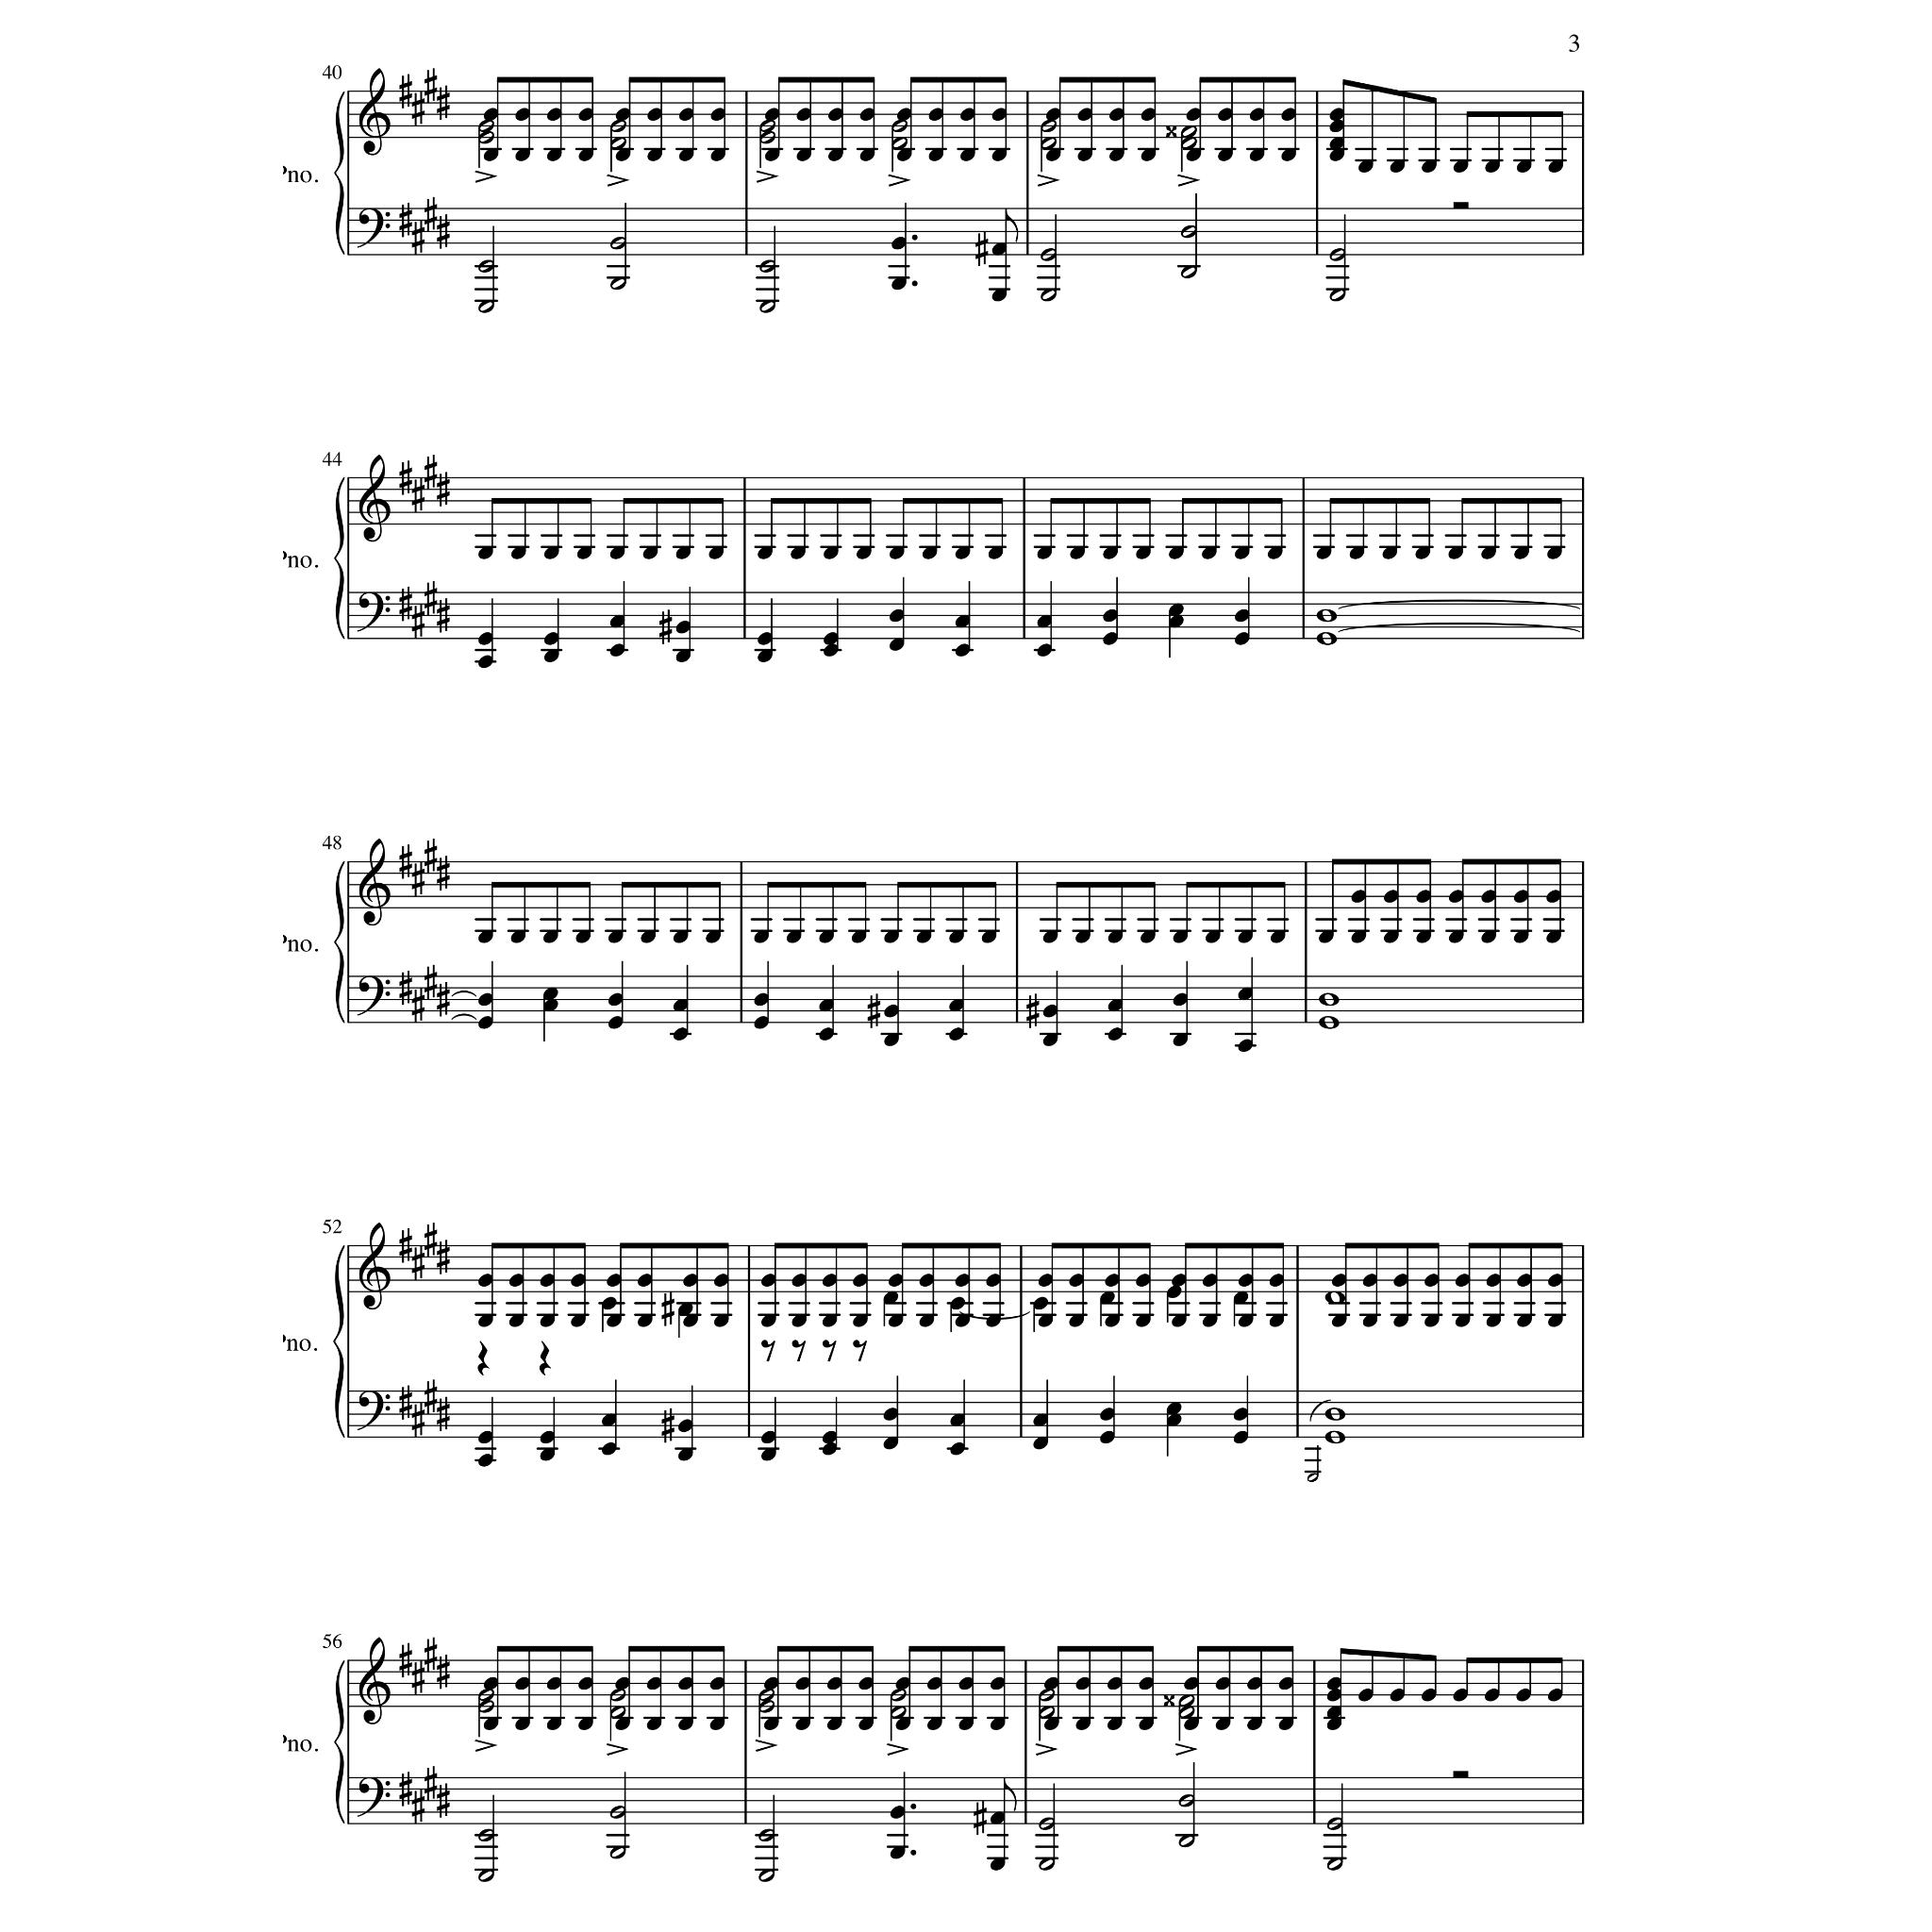brace: (333, 1246, 345, 1438), (333, 1660, 345, 1824), (333, 92, 345, 255), (333, 478, 345, 640), (333, 862, 345, 1024)
fClef: (357, 593, 391, 633), (357, 977, 391, 1017), (357, 1391, 391, 1431), (357, 1776, 391, 1817), (357, 209, 391, 248)
flag8thUp: (1003, 1778, 1017, 1812), (1005, 209, 1017, 242)
gClef: (359, 67, 391, 157), (359, 837, 391, 927), (359, 1221, 391, 1311), (359, 455, 391, 543), (359, 1637, 391, 1725)
noteheadBlack: (545, 108, 563, 122), (545, 149, 563, 163), (858, 149, 876, 163), (858, 108, 876, 122), (759, 1447, 777, 1461), (1214, 1677, 1231, 1691), (1214, 1716, 1231, 1730), (1042, 1677, 1060, 1691), (1042, 1716, 1060, 1730), (1483, 1688, 1500, 1702), (545, 1677, 563, 1691), (545, 1716, 563, 1730), (957, 1677, 975, 1691), (957, 1716, 975, 1730), (1108, 149, 1123, 163), (1249, 149, 1265, 163), (1185, 108, 1201, 122), (1185, 149, 1201, 163), (1108, 108, 1123, 122), (1139, 108, 1155, 122), (1139, 149, 1155, 163), (991, 108, 1007, 122), (1217, 108, 1233, 122), (1217, 149, 1233, 163), (1046, 108, 1062, 122), (1046, 149, 1062, 163), (991, 288, 1007, 303), (1077, 108, 1093, 122), (1077, 149, 1093, 163), (1329, 149, 1345, 163), (1329, 108, 1345, 122), (1329, 136, 1345, 150), (1281, 108, 1297, 122), (1281, 149, 1297, 163), (1249, 108, 1265, 122), (648, 108, 663, 122), (648, 149, 663, 163), (709, 108, 725, 122), (764, 108, 780, 122), (764, 149, 780, 163), (709, 149, 725, 163), (991, 149, 1007, 163), (678, 108, 694, 122), (678, 149, 694, 163), (483, 149, 499, 163), (515, 108, 531, 122), (515, 149, 531, 163), (483, 108, 499, 122), (579, 149, 594, 163), (614, 108, 630, 122), (614, 149, 630, 163), (579, 108, 594, 122), (892, 237, 908, 251), (892, 276, 908, 290), (895, 108, 911, 122), (895, 149, 911, 163), (961, 108, 977, 122), (961, 149, 977, 163), (927, 108, 943, 122), (927, 149, 943, 163), (826, 108, 842, 122), (826, 149, 842, 163), (796, 108, 812, 122), (796, 149, 812, 163), (1168, 603, 1184, 617), (1235, 609, 1251, 623), (1235, 632, 1251, 646), (1037, 644, 1053, 658), (1102, 609, 1118, 623), (1102, 632, 1118, 646), (609, 644, 625, 658), (543, 632, 559, 646), (543, 649, 559, 663), (676, 649, 692, 663), (478, 632, 494, 646), (478, 655, 494, 669), (823, 632, 839, 646), (823, 644, 839, 658), (954, 644, 970, 658), (888, 609, 904, 623), (888, 637, 904, 651), (757, 649, 773, 663), (757, 632, 773, 646), (1173, 993, 1189, 1007), (1173, 1033, 1189, 1047), (1042, 1005, 1058, 1019), (1042, 1033, 1058, 1047), (1546, 890, 1562, 904), (1513, 890, 1529, 904), (1481, 890, 1497, 904), (1447, 890, 1463, 904), (1382, 890, 1398, 904), (1415, 890, 1431, 904), (1350, 890, 1366, 904), (607, 993, 623, 1007), (607, 1016, 623, 1030), (478, 993, 494, 1007), (478, 1016, 494, 1030), (883, 1005, 899, 1019), (883, 1033, 899, 1047), (754, 993, 770, 1007), (754, 1016, 770, 1030), (1166, 1414, 1182, 1428), (1166, 1401, 1182, 1415), (1033, 1414, 1049, 1428), (1033, 1437, 1049, 1451), (1033, 1297, 1049, 1311), (600, 1442, 616, 1456), (600, 1414, 616, 1428), (600, 1297, 616, 1311), (950, 1414, 966, 1428), (678, 1447, 694, 1461), (678, 1302, 694, 1316), (478, 1453, 494, 1467), (540, 1447, 556, 1461), (821, 1442, 837, 1456), (950, 1442, 966, 1456), (950, 1297, 966, 1311), (883, 1437, 899, 1451), (1106, 1716, 1122, 1730), (1246, 1716, 1261, 1730), (1184, 1677, 1200, 1691), (1184, 1716, 1200, 1730), (1106, 1677, 1122, 1691), (1138, 1677, 1154, 1691), (1138, 1716, 1154, 1730), (989, 1677, 1005, 1691), (989, 1858, 1005, 1872), (1076, 1677, 1092, 1691), (1076, 1716, 1092, 1730), (1516, 1688, 1532, 1702), (1453, 1688, 1468, 1702), (1546, 1688, 1562, 1702), (1325, 1716, 1341, 1730), (1325, 1677, 1341, 1691), (1325, 1688, 1341, 1702), (1277, 1677, 1293, 1691), (1277, 1716, 1293, 1730), (1421, 1688, 1437, 1702), (1389, 1688, 1405, 1702), (1359, 1688, 1375, 1702), (1246, 1677, 1261, 1691), (646, 1677, 662, 1691), (646, 1716, 662, 1730), (709, 1677, 725, 1691), (763, 1677, 778, 1691), (763, 1716, 778, 1730), (709, 1716, 725, 1730), (989, 1716, 1005, 1730), (678, 1677, 694, 1691), (678, 1716, 694, 1730), (483, 1716, 499, 1730), (515, 1677, 531, 1691), (515, 1716, 531, 1730), (483, 1677, 499, 1691), (579, 1716, 594, 1730), (614, 1677, 630, 1691), (614, 1716, 630, 1730), (579, 1677, 594, 1691), (890, 1845, 906, 1859), (895, 1677, 911, 1691), (895, 1716, 911, 1730), (858, 1716, 874, 1730), (858, 1677, 874, 1691), (925, 1677, 941, 1691), (925, 1716, 941, 1730), (826, 1677, 842, 1691), (826, 1716, 842, 1730), (794, 1677, 810, 1691), (794, 1716, 810, 1730), (915, 931, 932, 943), (1099, 1408, 1116, 1421), (1099, 1292, 1116, 1304), (1099, 1431, 1116, 1444), (886, 1274, 904, 1286), (886, 1315, 904, 1327), (759, 1431, 777, 1444), (759, 1274, 777, 1286), (759, 1315, 777, 1327), (991, 242, 1007, 255), (1516, 161, 1532, 173), (1484, 161, 1500, 173), (1453, 161, 1468, 173), (1548, 161, 1564, 173), (1329, 120, 1345, 133), (1421, 161, 1437, 173), (1389, 161, 1405, 173), (1359, 161, 1375, 173), (1168, 616, 1184, 628), (1168, 547, 1184, 559), (1136, 547, 1152, 559), (1235, 547, 1251, 559), (1201, 547, 1217, 559), (1037, 547, 1053, 559), (1037, 616, 1053, 628), (987, 547, 1003, 559), (1102, 547, 1118, 559), (1069, 547, 1085, 559), (1546, 547, 1562, 559), (1513, 547, 1529, 559), (1481, 547, 1497, 559), (1447, 547, 1463, 559), (1316, 547, 1332, 559), (1267, 547, 1283, 559), (1415, 547, 1431, 559), (1382, 547, 1398, 559), (1348, 547, 1364, 559), (609, 616, 625, 628), (609, 547, 625, 559), (577, 547, 593, 559), (676, 621, 692, 633), (676, 547, 692, 559), (642, 547, 658, 559), (543, 547, 559, 559), (510, 547, 525, 559), (478, 547, 494, 559), (855, 547, 870, 559), (888, 547, 904, 559), (823, 547, 839, 559), (922, 547, 938, 559), (954, 616, 970, 628), (954, 547, 970, 559), (708, 547, 724, 559), (791, 547, 807, 559), (757, 547, 773, 559), (1139, 931, 1155, 943), (1173, 931, 1189, 943), (980, 931, 996, 943), (1270, 931, 1286, 943), (1237, 987, 1253, 1000), (1237, 1040, 1253, 1053), (1237, 931, 1253, 943), (1205, 931, 1221, 943), (1042, 931, 1058, 943), (1108, 1000, 1123, 1012), (1108, 1028, 1123, 1040), (1108, 931, 1123, 943), (1076, 931, 1092, 943), (1546, 931, 1562, 943), (1513, 931, 1529, 943), (1481, 931, 1497, 943), (1447, 931, 1463, 943), (1318, 931, 1334, 943), (1415, 931, 1431, 943), (1382, 931, 1398, 943), (1350, 931, 1366, 943), (607, 931, 623, 943), (575, 931, 591, 943), (706, 931, 722, 943), (672, 1000, 688, 1012), (672, 1028, 688, 1040), (672, 931, 688, 943), (640, 931, 656, 943), (510, 931, 525, 943), (478, 931, 494, 943), (819, 1000, 835, 1012), (819, 1028, 835, 1040), (819, 931, 835, 943), (948, 931, 964, 943), (883, 931, 899, 943), (851, 931, 867, 943), (948, 1028, 964, 1040), (754, 931, 770, 943), (786, 931, 801, 943), (948, 1000, 964, 1012), (1166, 1286, 1182, 1299), (1171, 1274, 1187, 1286), (1171, 1315, 1187, 1327), (1136, 1274, 1152, 1286), (1136, 1315, 1152, 1327), (1201, 1315, 1217, 1327), (1233, 1408, 1249, 1421), (1233, 1431, 1249, 1444), (1233, 1292, 1249, 1304), (1237, 1274, 1253, 1286), (1237, 1315, 1253, 1327), (1201, 1274, 1217, 1286), (985, 1274, 1001, 1286), (1037, 1274, 1053, 1286), (1037, 1315, 1053, 1327), (985, 1315, 1001, 1327), (1104, 1274, 1120, 1286), (1104, 1315, 1120, 1327), (1069, 1274, 1085, 1286), (1069, 1315, 1085, 1327), (1516, 1274, 1532, 1286), (1516, 1315, 1532, 1327), (1486, 1274, 1502, 1286), (1486, 1315, 1502, 1327), (1454, 1274, 1470, 1286), (1454, 1315, 1470, 1327), (1424, 1274, 1440, 1286), (1424, 1315, 1440, 1327), (1546, 1274, 1562, 1286), (1546, 1315, 1562, 1327), (1269, 1274, 1284, 1286), (1269, 1315, 1284, 1327), (1392, 1274, 1408, 1286), (1392, 1315, 1408, 1327), (1362, 1274, 1378, 1286), (1362, 1315, 1378, 1327), (1330, 1274, 1346, 1286), (1330, 1315, 1346, 1327), (637, 1315, 653, 1327), (607, 1274, 623, 1286), (607, 1315, 623, 1327), (570, 1274, 586, 1286), (570, 1315, 586, 1327), (713, 1274, 729, 1286), (713, 1315, 729, 1327), (678, 1419, 694, 1431), (683, 1274, 699, 1286), (683, 1315, 699, 1327), (637, 1274, 653, 1286), (478, 1431, 494, 1444), (478, 1274, 494, 1286), (478, 1315, 494, 1327), (540, 1431, 556, 1444), (540, 1274, 556, 1286), (540, 1315, 556, 1327), (508, 1274, 524, 1286), (508, 1315, 524, 1327), (853, 1274, 869, 1286), (853, 1315, 869, 1327), (821, 1431, 837, 1444), (821, 1274, 837, 1286), (821, 1315, 837, 1327), (954, 1274, 970, 1286), (954, 1315, 970, 1327), (918, 1274, 934, 1286), (918, 1315, 934, 1327), (883, 1408, 899, 1421), (883, 1292, 899, 1304), (791, 1274, 807, 1286), (791, 1315, 807, 1327), (989, 1812, 1005, 1824), (1325, 1706, 1341, 1718), (890, 1806, 906, 1819), (543, 987, 557, 1000), (543, 1000, 557, 1012), (543, 931, 557, 943)
noteheadHalf: (1180, 225, 1198, 239), (1180, 265, 1198, 280), (1329, 248, 1346, 262), (1329, 288, 1346, 303), (609, 276, 626, 290), (1178, 1794, 1196, 1808), (1178, 1835, 1196, 1849), (609, 1845, 626, 1859), (757, 1688, 775, 1702), (609, 1688, 626, 1702), (757, 1828, 775, 1842), (757, 1868, 775, 1882), (1040, 248, 1056, 262), (1040, 288, 1056, 303), (759, 131, 775, 145), (478, 131, 494, 145), (478, 260, 494, 274), (759, 260, 775, 274), (1039, 1817, 1054, 1831), (1039, 1858, 1054, 1872), (1039, 1688, 1054, 1702), (1327, 1817, 1343, 1831), (1327, 1858, 1343, 1872), (478, 1828, 494, 1842), (478, 1868, 494, 1882), (478, 1688, 494, 1702), (890, 1688, 906, 1702), (1180, 126, 1198, 138), (1180, 138, 1198, 150), (609, 237, 626, 249), (609, 120, 626, 133), (609, 138, 626, 150), (890, 120, 908, 133), (890, 138, 908, 150), (1178, 1695, 1196, 1707), (1178, 1706, 1196, 1718), (609, 1806, 626, 1819), (757, 1700, 775, 1713), (609, 1706, 626, 1718), (1040, 120, 1056, 133), (1040, 138, 1056, 150), (759, 120, 775, 133), (478, 301, 494, 313), (478, 120, 494, 133), (759, 301, 775, 313), (1039, 1706, 1054, 1718), (478, 1700, 494, 1713), (890, 1706, 906, 1718), (1306, 1474, 1318, 1483)
noteheadWhole: (1316, 609, 1338, 623), (1316, 632, 1338, 646), (1318, 993, 1339, 1007), (1318, 1016, 1339, 1030), (1323, 1408, 1346, 1421), (1323, 1431, 1346, 1444), (1323, 1292, 1346, 1304)
rest8th: (851, 1339, 867, 1362), (821, 1339, 837, 1362), (791, 1339, 807, 1362), (761, 1339, 775, 1362)
restHalf: (1453, 202, 1468, 209), (1453, 1771, 1468, 1778)
restQuarter: (476, 1341, 490, 1376), (540, 1341, 552, 1376)
